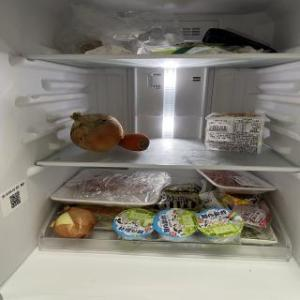carrot: (111, 133, 151, 153)
onion: (57, 112, 122, 150), (46, 205, 96, 239)
